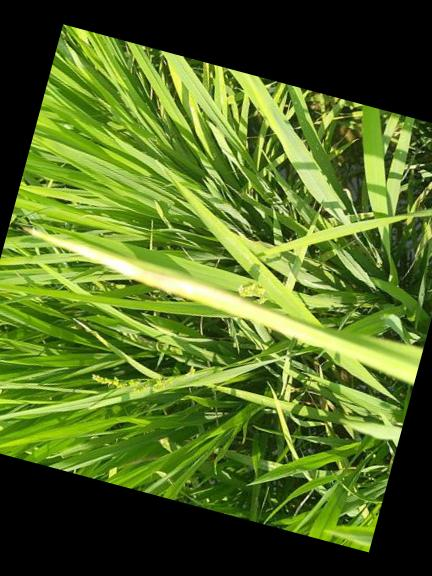Leaf Blight: (42, 234, 384, 369)
